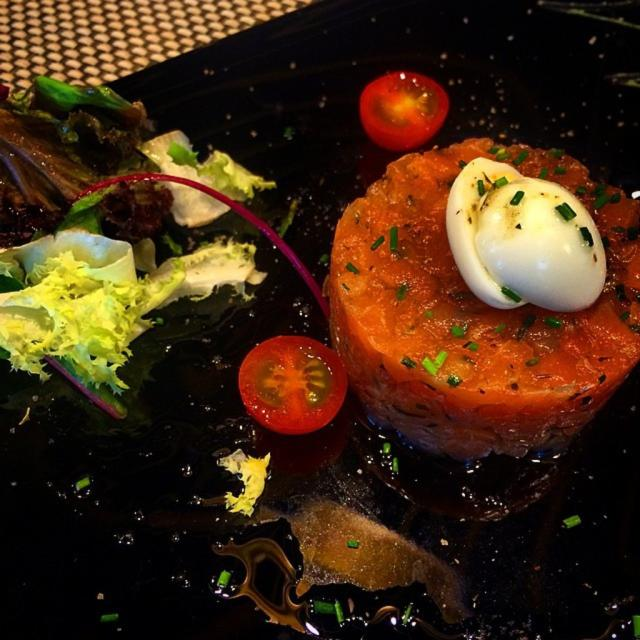Egg: (449, 157, 607, 316)
